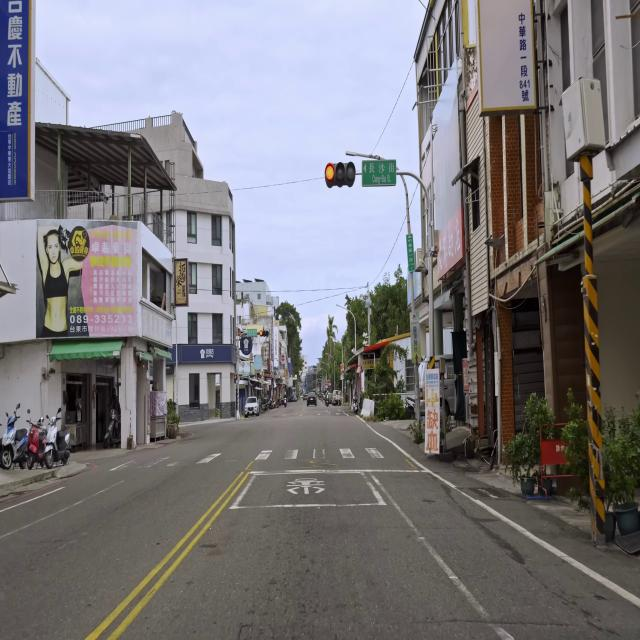red light: (324, 162, 356, 184), (259, 329, 269, 336)
